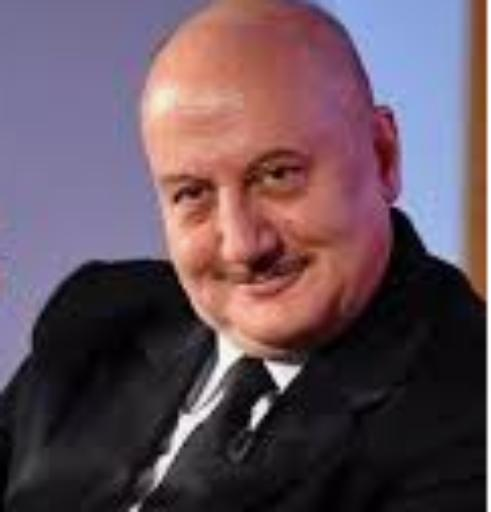left_eye: (251, 168, 310, 194)
left_lip_corner: (299, 251, 333, 273)
right_eye: (170, 186, 215, 209)
